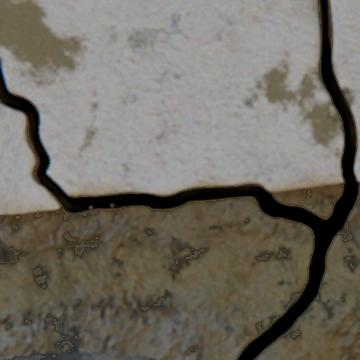broken_brick: (0, 0, 343, 195), (0, 103, 61, 214), (331, 0, 359, 181), (8, 352, 156, 359)
crack: (0, 0, 358, 359), (310, 177, 315, 183)
